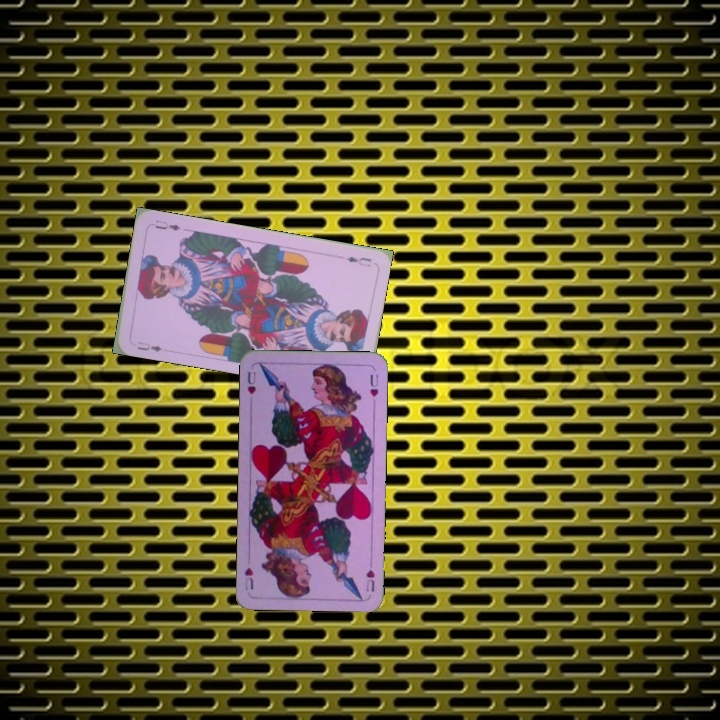EU: (342, 252, 374, 269), (133, 337, 164, 354)
HU: (362, 555, 377, 594), (244, 367, 258, 397)
